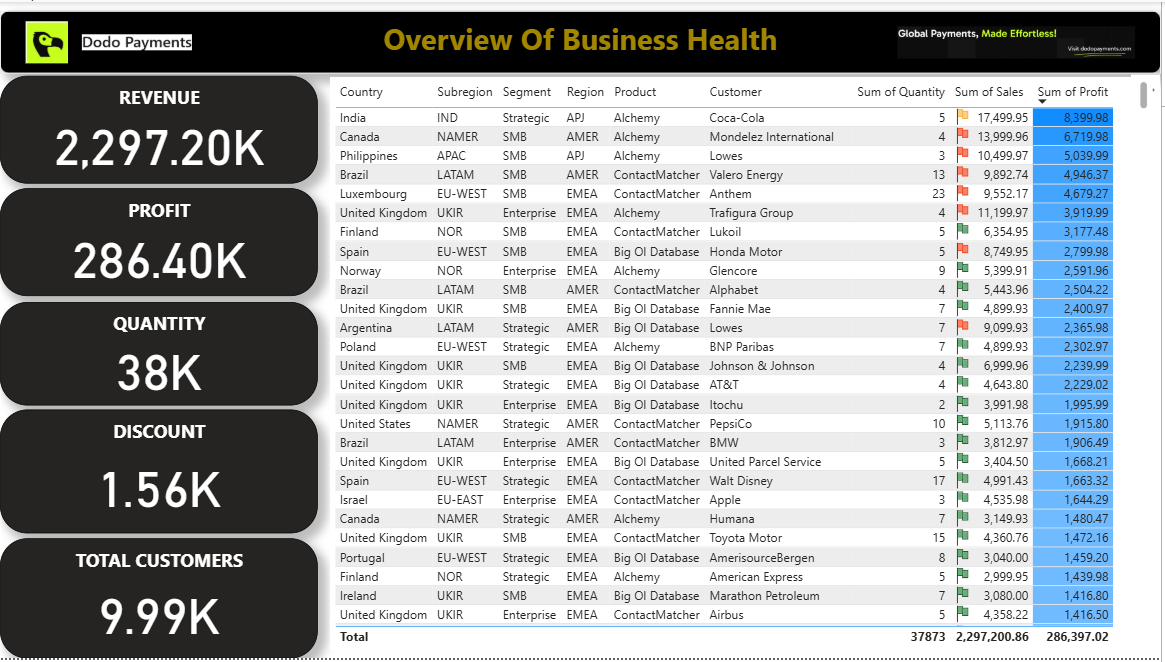

The page's visual inventory and layout, read from the dashboard file:
{"tool":"powerbi","page":{"name":"KPI Cards","canvas":[1280,720],"ordinal":0},"visuals":[{"type":"card","title":"REVENUE","fields":{"Values":["Sum(SaaS-Sales_B8E9E49F6C.Sales)"]},"box":[5.5,81,348.5,118],"z":0},{"type":"card","title":"PROFIT","fields":{"Values":["Sum(SaaS-Sales_B8E9E49F6C.Profit)"]},"box":[5.5,204.5,348.5,118],"z":1000},{"type":"textbox","box":[5.5,9.6,1274.8,68.6],"z":2000},{"type":"card","title":"QUANTITY","fields":{"Values":["Sum(SaaS-Sales_B8E9E49F6C.Quantity)"]},"box":[5.5,329.3,348.5,113.9],"z":3000},{"type":"card","title":"TOTAL CUSTOMERS","fields":{"Values":["CountNonNull(SaaS-Sales_B8E9E49F6C.Customer ID)"]},"box":[5.5,588.7,348.5,131.7],"z":4000},{"type":"card","title":"DISCOUNT","fields":{"Values":["Sum(SaaS-Sales_B8E9E49F6C.Discount)"]},"box":[5.5,447.3,348.5,135.8],"z":5000},{"type":"tableEx","fields":{"Values":["SaaS-Sales_B8E9E49F6C.Country","SaaS-Sales_B8E9E49F6C.Subregion","SaaS-Sales_B8E9E49F6C.Segment","SaaS-Sales_B8E9E49F6C.Region","SaaS-Sales_B8E9E49F6C.Product","SaaS-Sales_B8E9E49F6C.Customer","Sum(SaaS-Sales_B8E9E49F6C.Quantity)","Sum(SaaS-Sales_B8E9E49F6C.Sales)","Sum(SaaS-Sales_B8E9E49F6C.Profit)"]},"box":[367.8,82.3,902.9,628.5],"z":6000},{"type":"image","box":[28.8,13.7,56.3,60.4],"z":7000},{"type":"image","box":[89.2,17.8,130.4,52.1],"z":8000},{"type":"image","box":[971.5,22,299.1,45.3],"z":9000}]}

Visuals, with their boxes in screenshot pixels (x1, y1, x2, y2), scaled from the page's 1280x720 canvas onto the 1165x662 screenshot:
"REVENUE" card: {"x1": 5, "y1": 74, "x2": 322, "y2": 183}
"PROFIT" card: {"x1": 5, "y1": 188, "x2": 322, "y2": 297}
textbox: {"x1": 5, "y1": 9, "x2": 1164, "y2": 72}
"QUANTITY" card: {"x1": 5, "y1": 303, "x2": 322, "y2": 407}
"TOTAL CUSTOMERS" card: {"x1": 5, "y1": 541, "x2": 322, "y2": 661}
"DISCOUNT" card: {"x1": 5, "y1": 411, "x2": 322, "y2": 536}
tableEx - SaaS-Sales_B8E9E49F6C.Country x SaaS-Sales_B8E9E49F6C.Subregion: {"x1": 335, "y1": 76, "x2": 1157, "y2": 654}
image: {"x1": 26, "y1": 13, "x2": 77, "y2": 68}
image: {"x1": 81, "y1": 16, "x2": 200, "y2": 64}
image: {"x1": 884, "y1": 20, "x2": 1156, "y2": 62}
